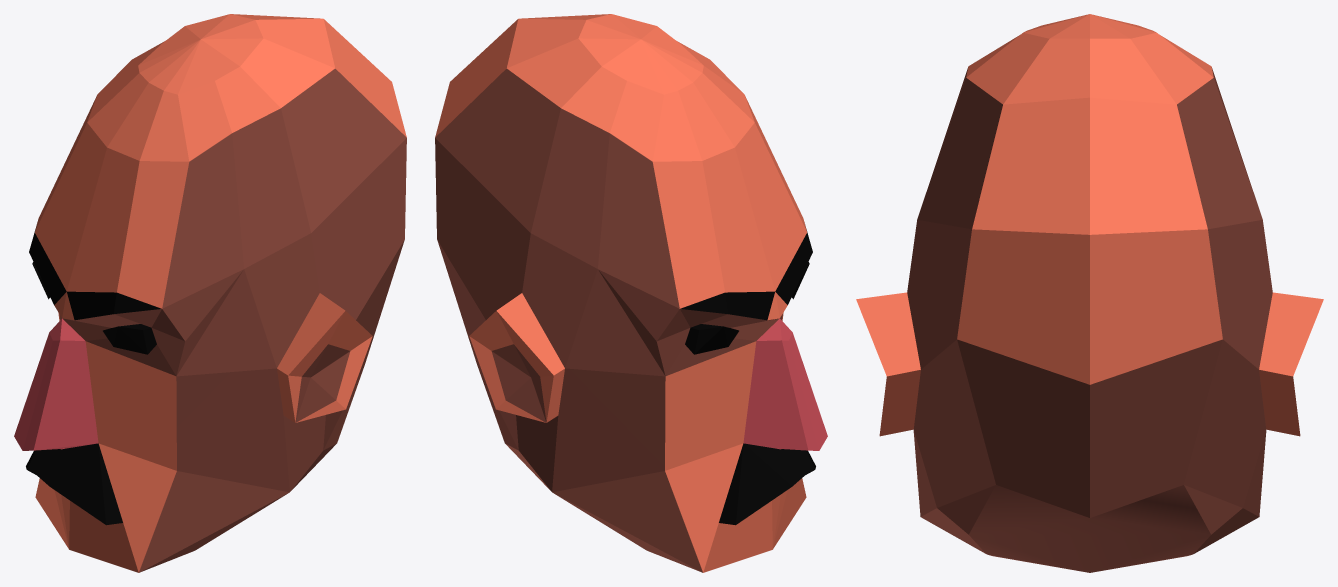
Rendered from headvato.fbx.
3 renders of one model, left to right at view 1: azimuth 30°, elevation 25°; view 2: azimuth 150°, elevation 25°; view 3: azimuth 270°, elevation 25°, orthographic. The views are drawn at different scales.
Visible parts, largest first — view 1: headvato; view 2: headvato; view 3: headvato.
Boxes of the visible parts, <box> form: headvato: <box>14,14,406,572</box>; headvato: <box>435,14,827,572</box>; headvato: <box>856,14,1323,572</box>.
Size of the model in its own units: 25.75 by 32.1 by 22.73.
